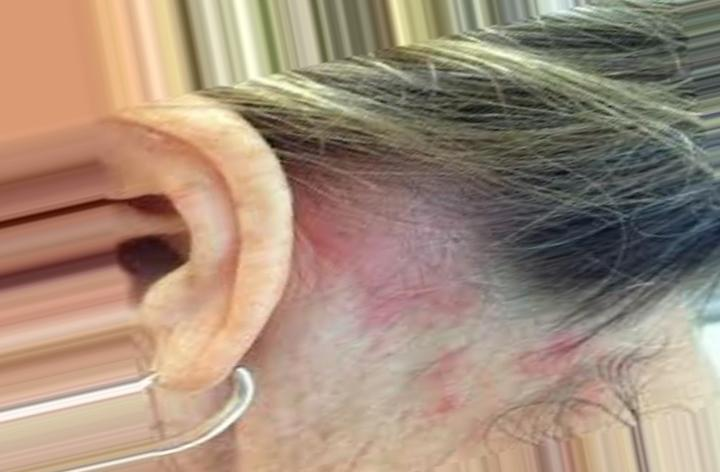Contact Dermatitis: (300, 142, 556, 405)
